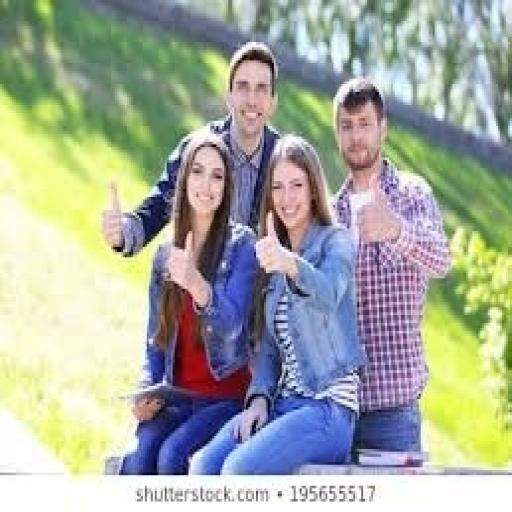sitting: (100, 37, 452, 475), (187, 132, 365, 476), (326, 74, 452, 468), (115, 128, 258, 472), (99, 40, 286, 258)
